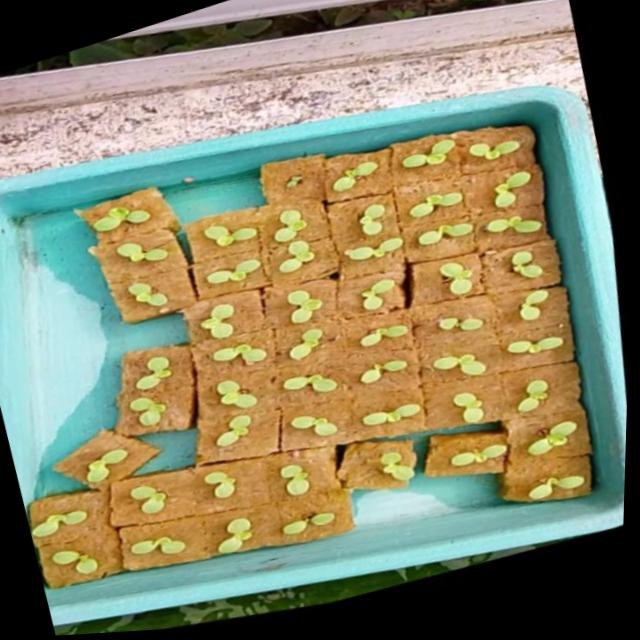Baby: (111, 426, 170, 473), (536, 367, 601, 409), (67, 531, 137, 568), (83, 496, 139, 534), (244, 325, 297, 360), (465, 292, 532, 319), (242, 241, 301, 271), (231, 367, 290, 396), (394, 262, 443, 296), (556, 226, 600, 263), (447, 118, 501, 148), (150, 523, 215, 547), (374, 141, 422, 173), (127, 190, 185, 216), (528, 194, 593, 217), (385, 220, 446, 244), (158, 384, 196, 421), (394, 347, 448, 373), (461, 206, 519, 229), (543, 152, 579, 189), (236, 289, 271, 325), (317, 224, 354, 258), (482, 245, 517, 280), (249, 506, 283, 542), (326, 276, 361, 310), (248, 402, 283, 436), (471, 342, 525, 364), (324, 314, 359, 347), (397, 311, 445, 334), (318, 361, 373, 381), (313, 194, 346, 227), (515, 120, 568, 140), (241, 207, 292, 227), (164, 473, 200, 501), (151, 228, 204, 247), (491, 381, 523, 412), (548, 325, 606, 342), (163, 268, 202, 293), (168, 342, 204, 369), (561, 275, 591, 307), (313, 454, 343, 485), (401, 185, 428, 218), (463, 174, 507, 193), (236, 461, 267, 487), (334, 404, 369, 424)
